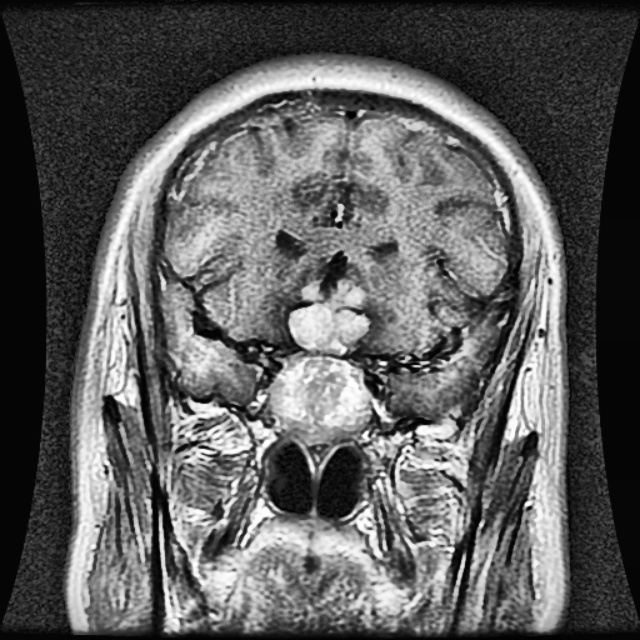Pituitary: (269, 280, 372, 440)
